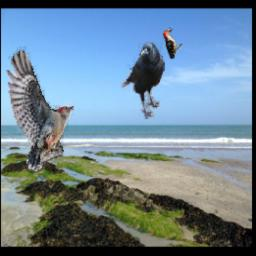Crow: (118, 39, 166, 120)
Woodpecker: (7, 47, 75, 171), (163, 27, 182, 60)
